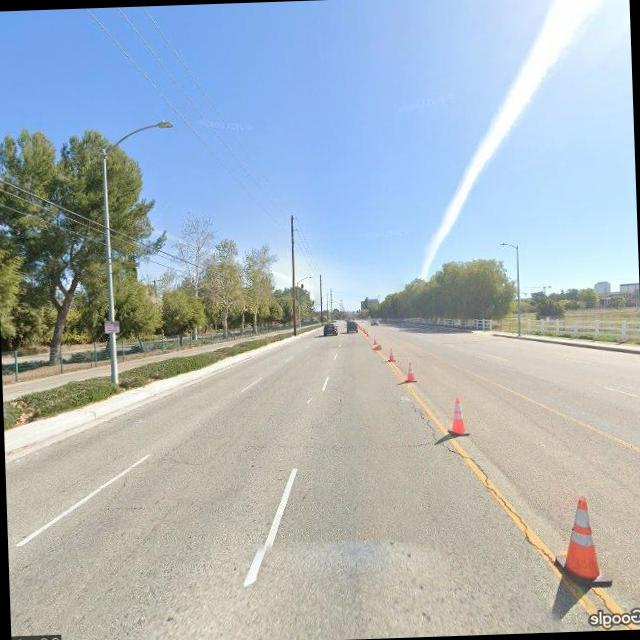crack: (414, 400, 564, 570)
